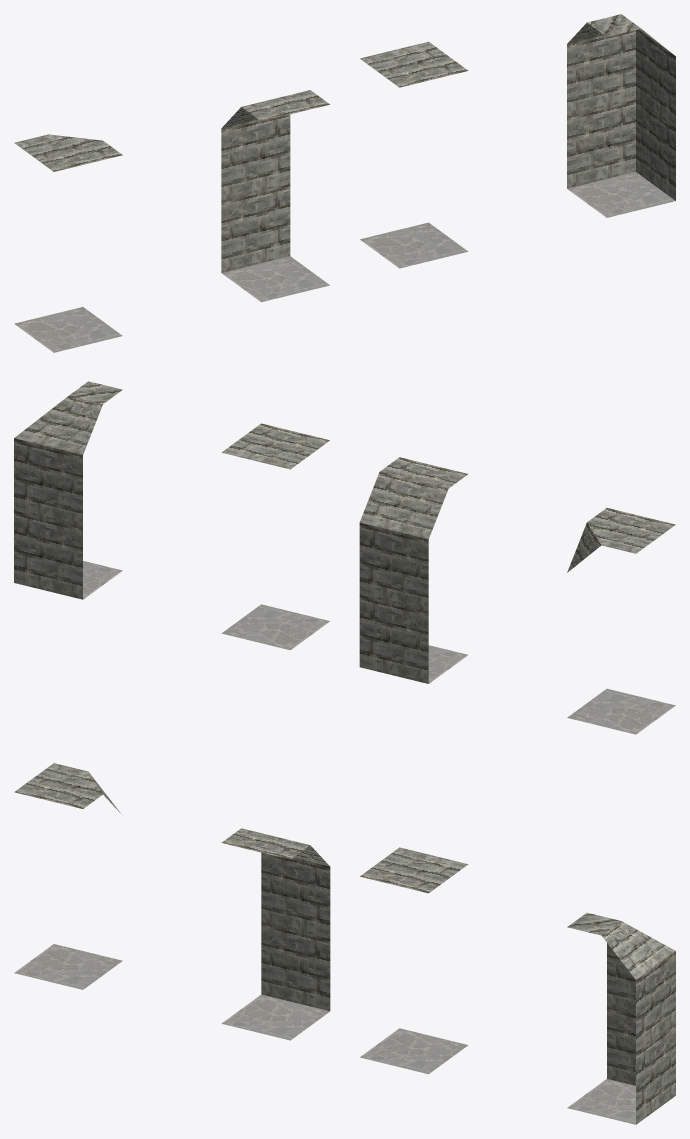
Rendered from Dungy.glb.
3 views of the same model, one above another, from view 1: azimuth 30°, elevation 25°; view 2: azimuth 150°, elevation 25°; view 3: azimuth 330°, elevation 25° (orthographic).
Parts seen in each view (by area): view 1: corner-in-col, wall-col, floor-col, corner-out-col; view 2: wall-col, corner-in-col, corner-out-col, floor-col; view 3: wall-col, corner-in-col, floor-col, corner-out-col.
Part boxes in pixels (box(x1,y1,x2,y2)): corner-in-col: box(567, 14, 675, 217); wall-col: box(221, 90, 329, 302); floor-col: box(360, 41, 468, 268); corner-out-col: box(14, 134, 122, 352); wall-col: box(359, 457, 467, 683); corner-in-col: box(14, 381, 122, 599); corner-out-col: box(567, 508, 675, 734); floor-col: box(221, 423, 329, 650); wall-col: box(221, 828, 330, 1040); corner-in-col: box(567, 912, 675, 1124); floor-col: box(360, 847, 468, 1074); corner-out-col: box(14, 763, 122, 989).
Size of the model in its own units: 9 by 2.5 by 1.
Materials: 1 (1 with a texture image).
